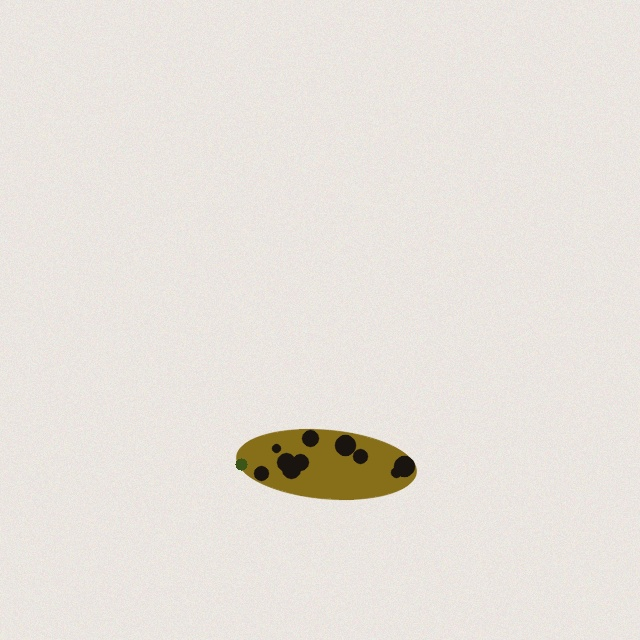Rotten banana: (232, 422, 420, 506)
